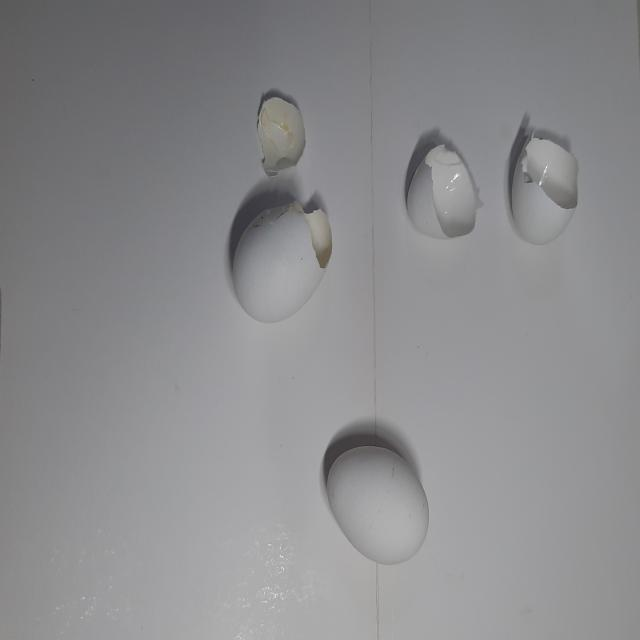egg shell: (227, 187, 338, 326), (323, 436, 433, 572), (506, 125, 581, 252), (400, 134, 486, 243), (253, 87, 308, 174)
